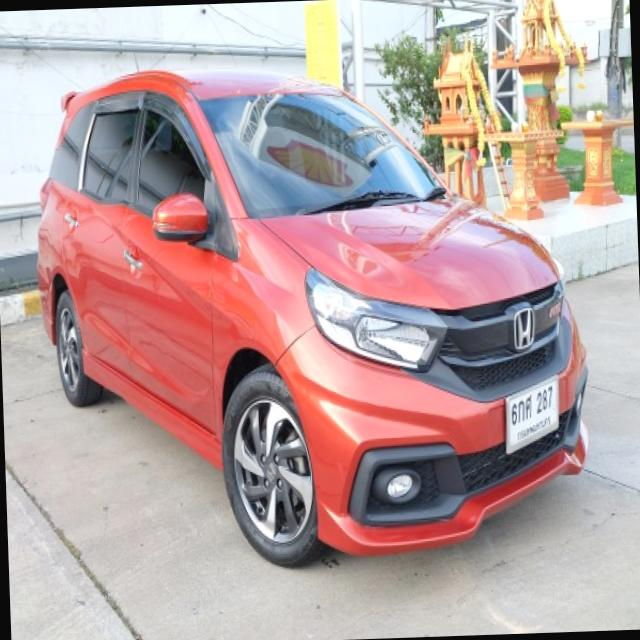license_plate: (503, 371, 564, 454)
